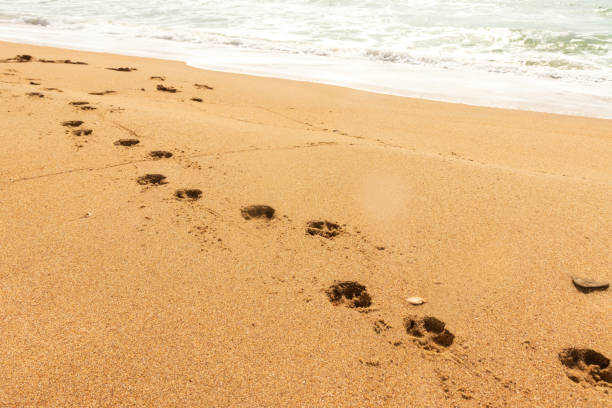animal_foot_print: (558, 348, 611, 386), (404, 316, 454, 350), (325, 281, 371, 307), (306, 220, 341, 238), (240, 205, 274, 219), (136, 174, 166, 184), (174, 189, 201, 200), (373, 319, 391, 333), (114, 138, 139, 146), (149, 150, 172, 158), (156, 84, 177, 92), (62, 120, 83, 126), (72, 129, 92, 135), (106, 67, 136, 71), (69, 101, 88, 105)
